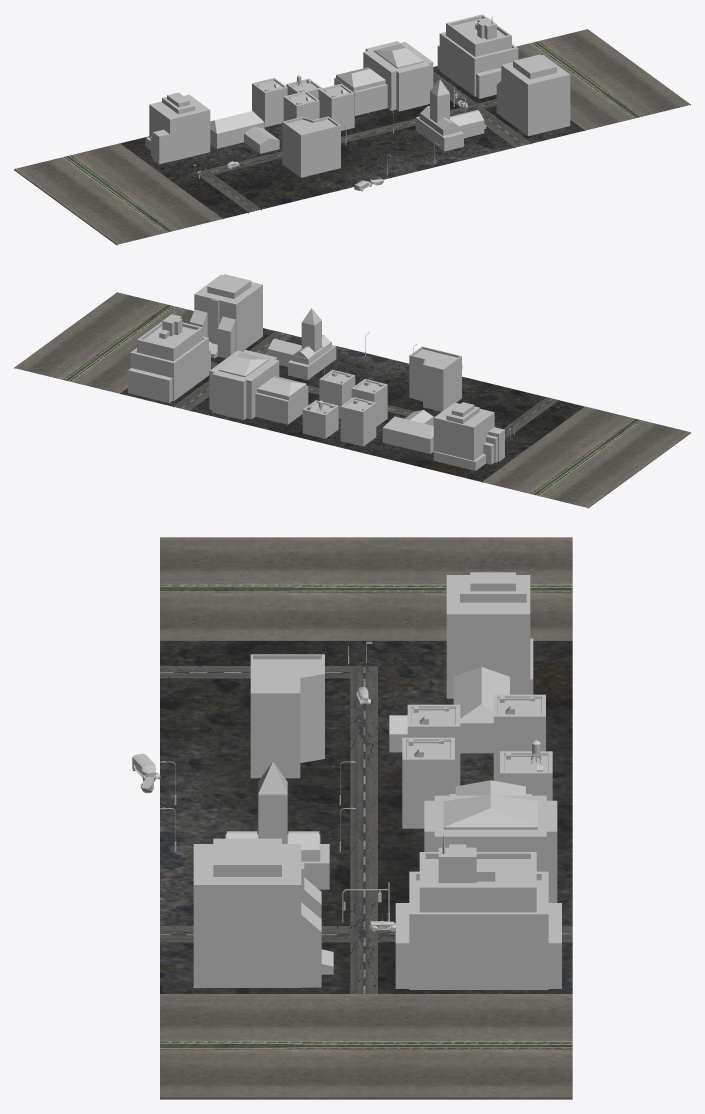
Rendered from Block_09.fbx.
3 renders of one model, top to bottom at view 1: azimuth 30°, elevation 25°; view 2: azimuth 150°, elevation 25°; view 3: azimuth 270°, elevation 25°, orthographic. The views are drawn at different scales.
Parts seen in each view (by area): view 1: pasted__polySurface1337; view 2: pasted__polySurface1337; view 3: pasted__polySurface1337.
Boxes of the visible parts, bbox=[...] form: pasted__polySurface1337: bbox=[14, 14, 690, 245]; pasted__polySurface1337: bbox=[14, 274, 690, 508]; pasted__polySurface1337: bbox=[132, 537, 572, 1099].
Size of the model in its own units: 459 by 153 by 56.03.
